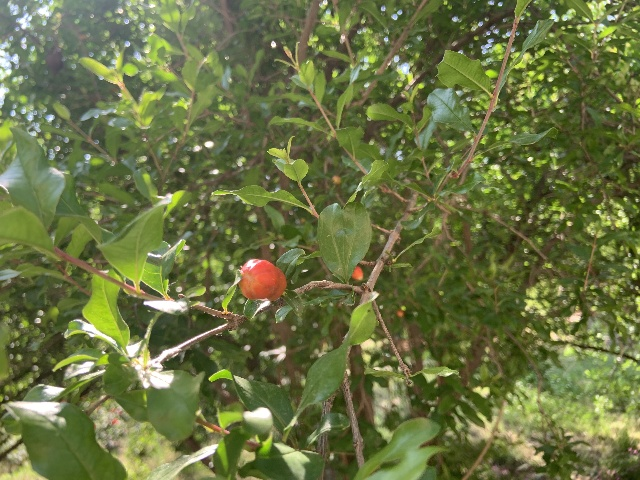bud: (238, 258, 286, 301), (351, 265, 363, 280)
